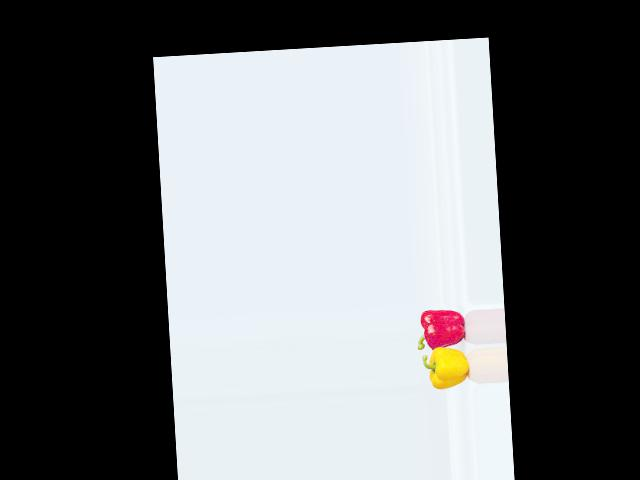bell_pepper: (416, 304, 471, 351)
